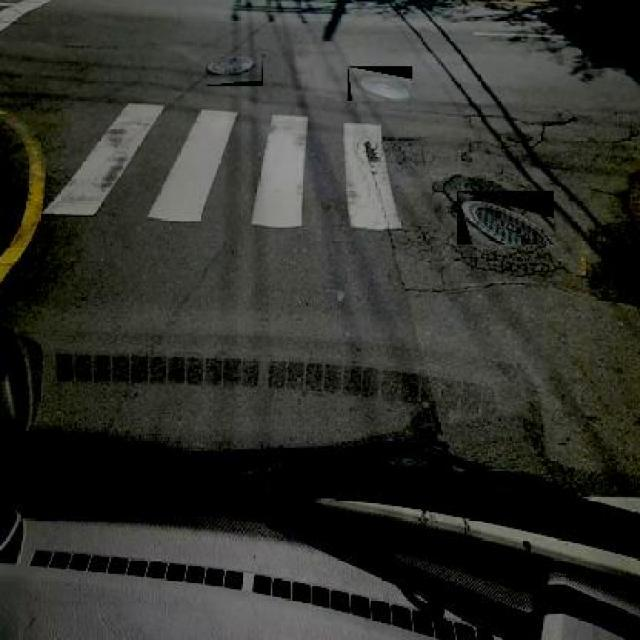Manhole: (457, 190, 554, 244), (348, 66, 414, 100), (204, 57, 264, 86)
